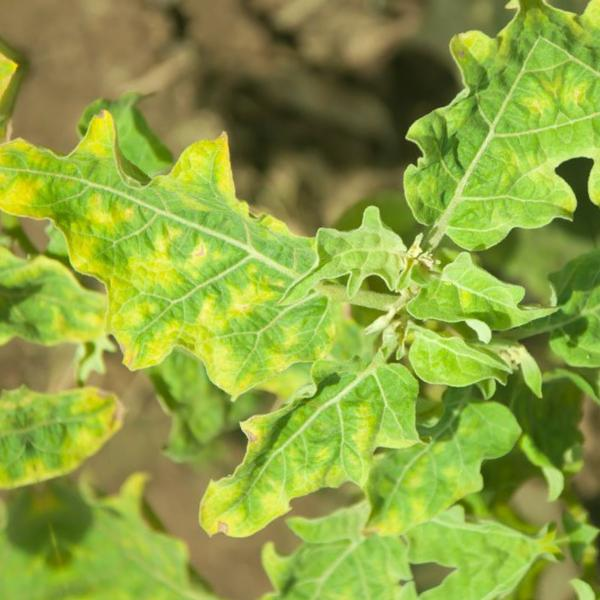Tomato leaf mosaic virus: (0, 61, 372, 448), (157, 336, 458, 556), (371, 0, 590, 286), (403, 229, 555, 364), (263, 207, 424, 322)
